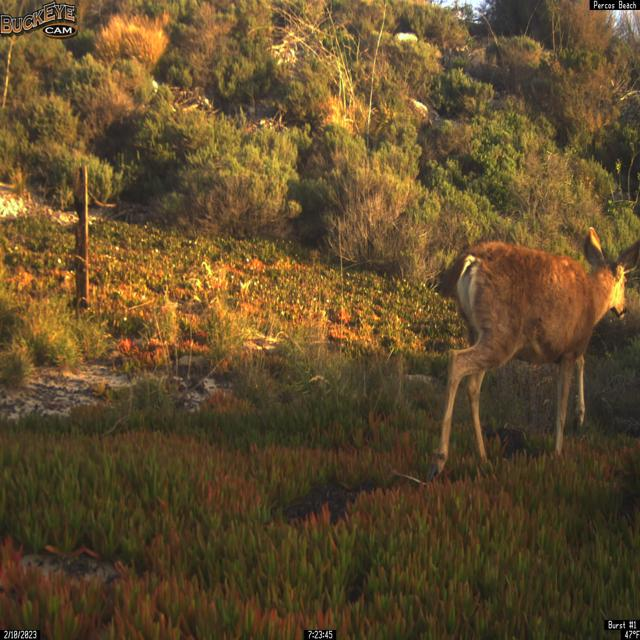deer: (426, 226, 640, 482)
